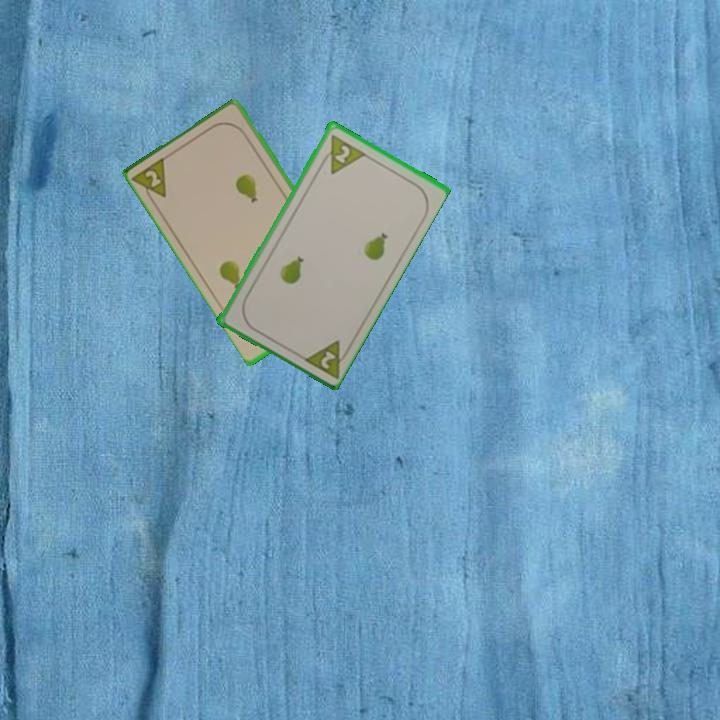2p: (298, 336, 354, 381), (315, 130, 367, 177), (130, 153, 170, 208)
